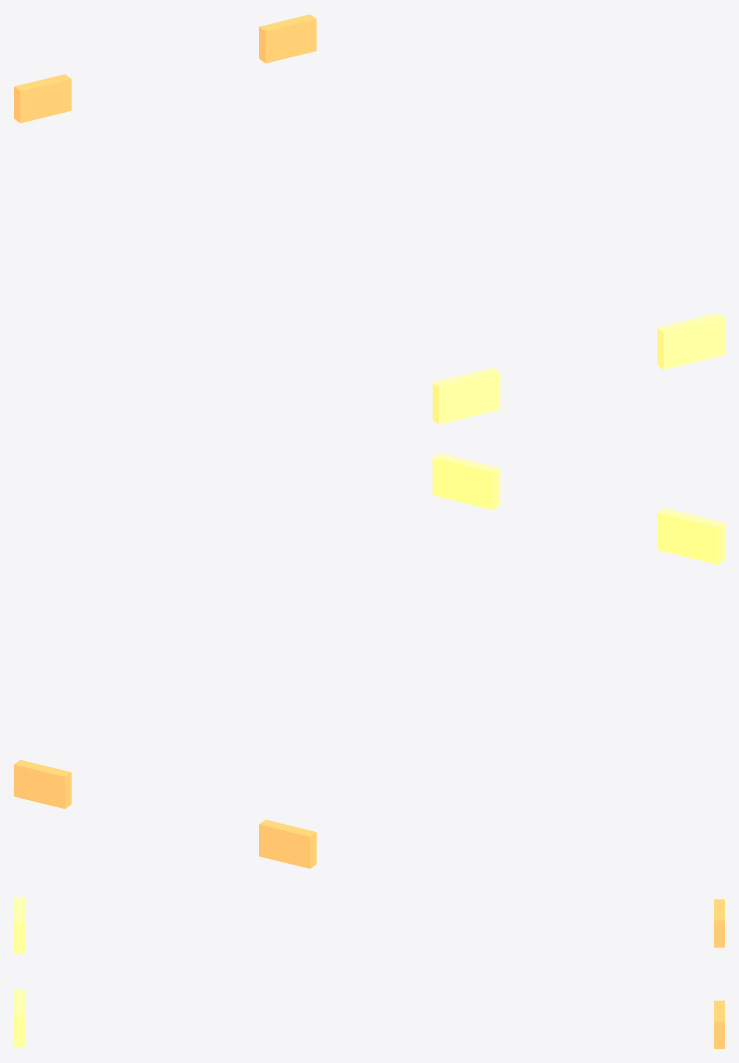
File: DeliveryVan_Glow.glb
The picture shows the model from 3 angles, top to bottom: view 1: azimuth 30°, elevation 25°; view 2: azimuth 150°, elevation 25°; view 3: azimuth 270°, elevation 25°; orthographic projection. The views are drawn at different scales.
Visible parts, largest first — view 1: DeliveryVan_Glow; view 2: DeliveryVan_Glow; view 3: DeliveryVan_Glow.
Part boxes in pixels (x1,y1,x2,y2): DeliveryVan_Glow: (14,14,724,424); DeliveryVan_Glow: (14,453,724,868); DeliveryVan_Glow: (14,897,724,1048).
Bounding box in the file's own units: 5.8 × 0.7 × 14.24.
